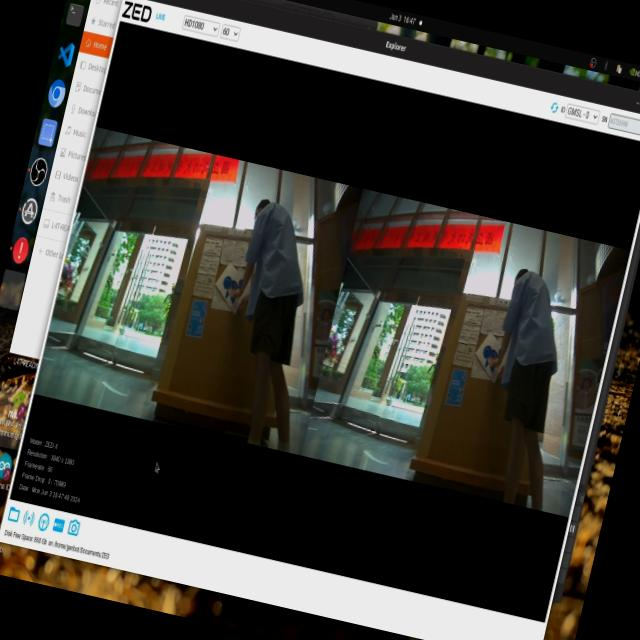blue: (210, 274, 253, 318), (478, 337, 510, 387)
